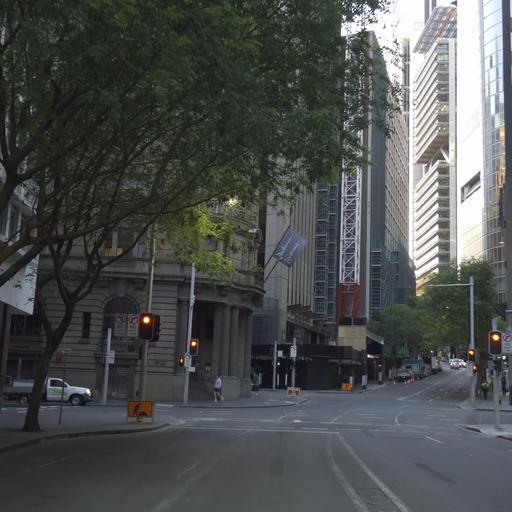Street light: (449, 0, 511, 410), (181, 195, 239, 404), (426, 275, 476, 403)
